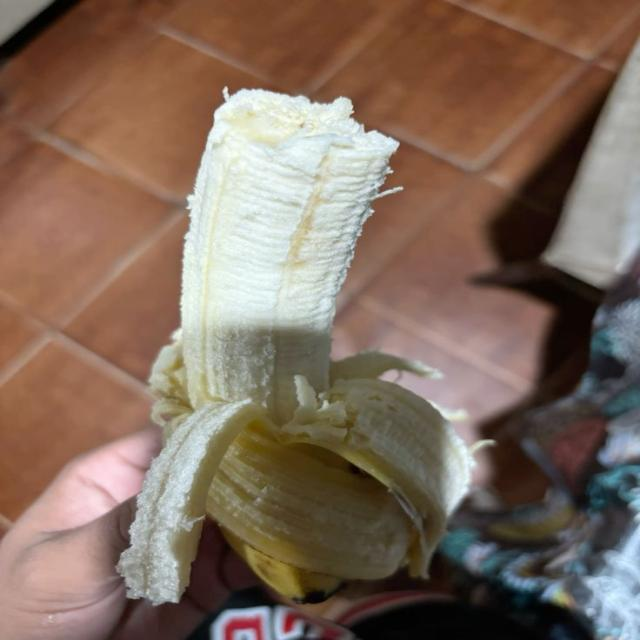banana: (119, 91, 471, 603)
